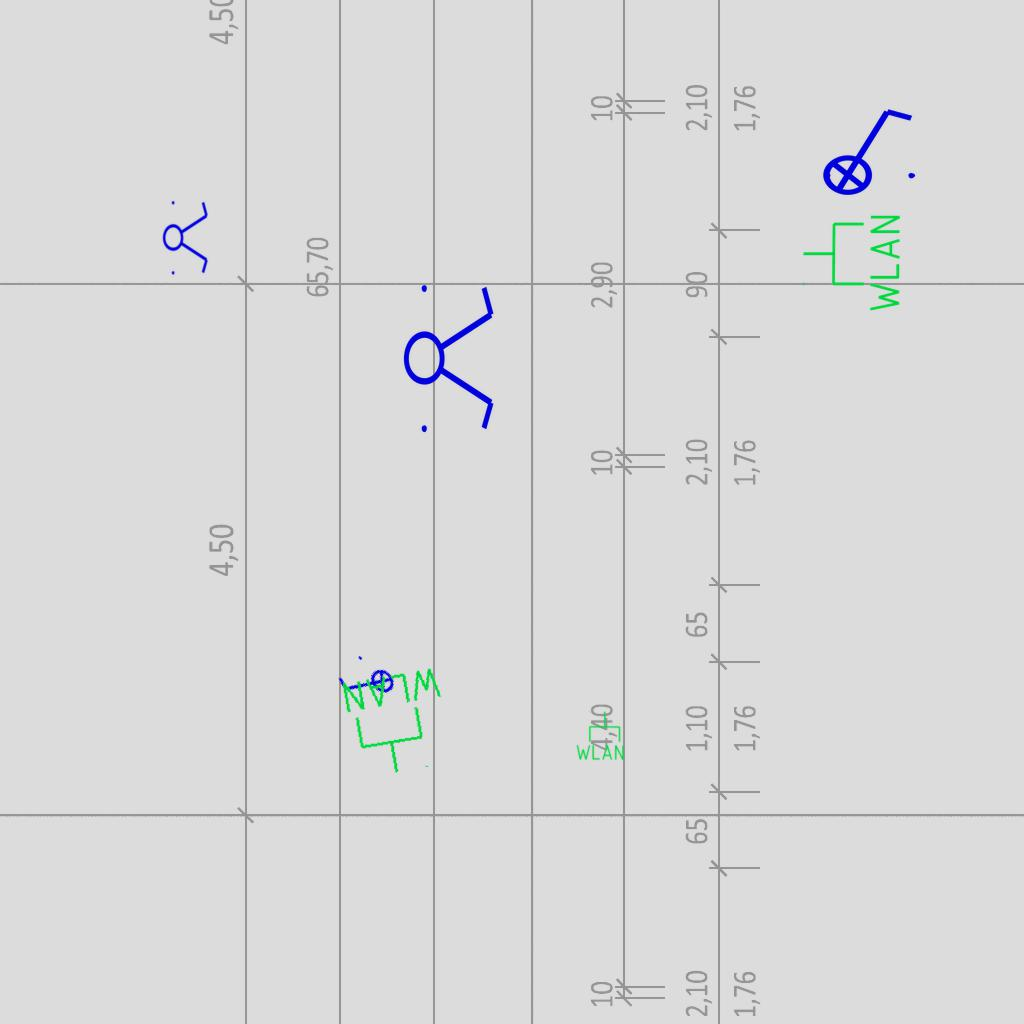Ausschalter_beleuchtet: (809, 101, 921, 197), (330, 647, 404, 721)
Serienschalter: (402, 273, 498, 441), (162, 195, 210, 279)
WLAN: (337, 662, 459, 783), (800, 211, 904, 316), (574, 710, 626, 762)
